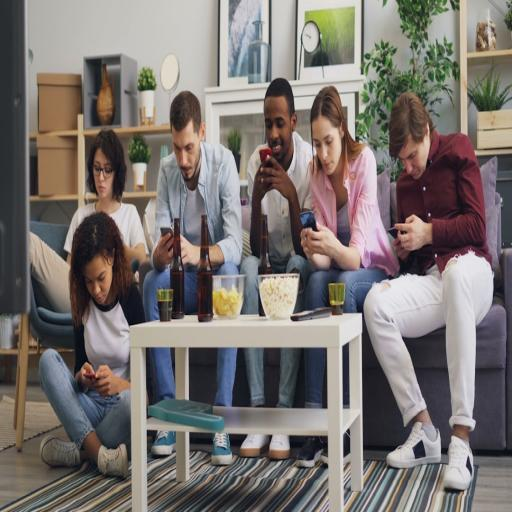face: (264, 96, 296, 169), (172, 120, 204, 189), (312, 116, 343, 175), (398, 125, 430, 180), (83, 254, 115, 305), (94, 171, 114, 199)
